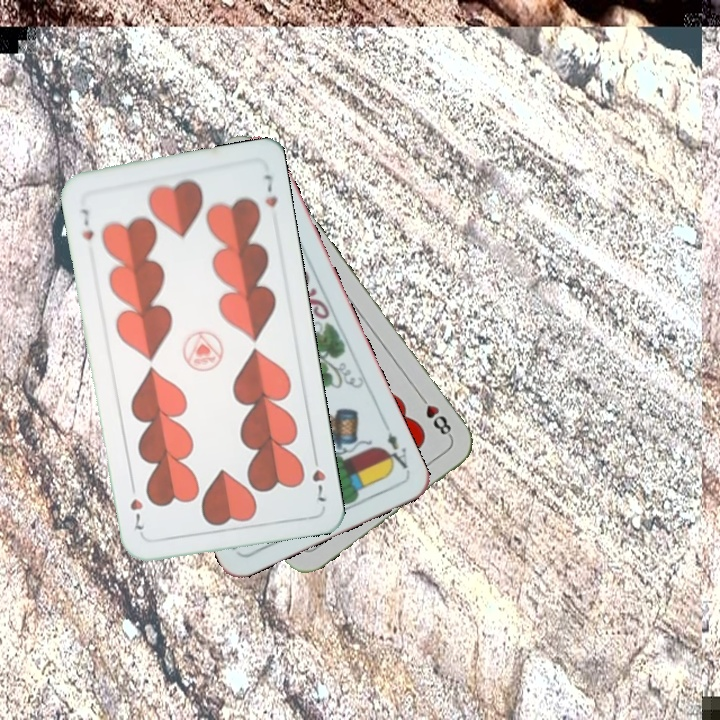EA: (378, 419, 412, 475)
H7: (308, 449, 329, 507), (74, 205, 96, 243)
H8: (414, 390, 455, 441)
